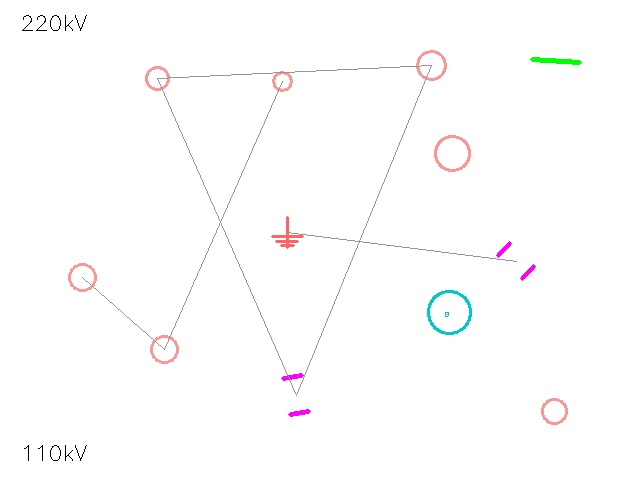busbar: (526, 31, 586, 91)
capacitor: (266, 365, 326, 425), (488, 233, 544, 289)
disconnect_switch: (56, 251, 108, 303)
fuse: (137, 322, 191, 376), (134, 55, 180, 101)
generator: (428, 291, 470, 333)
ground: (272, 217, 302, 247)
reactor: (418, 119, 486, 187)
surge_arrester: (263, 62, 301, 100)
voltage_transformer: (403, 37, 459, 93), (529, 386, 579, 436)
